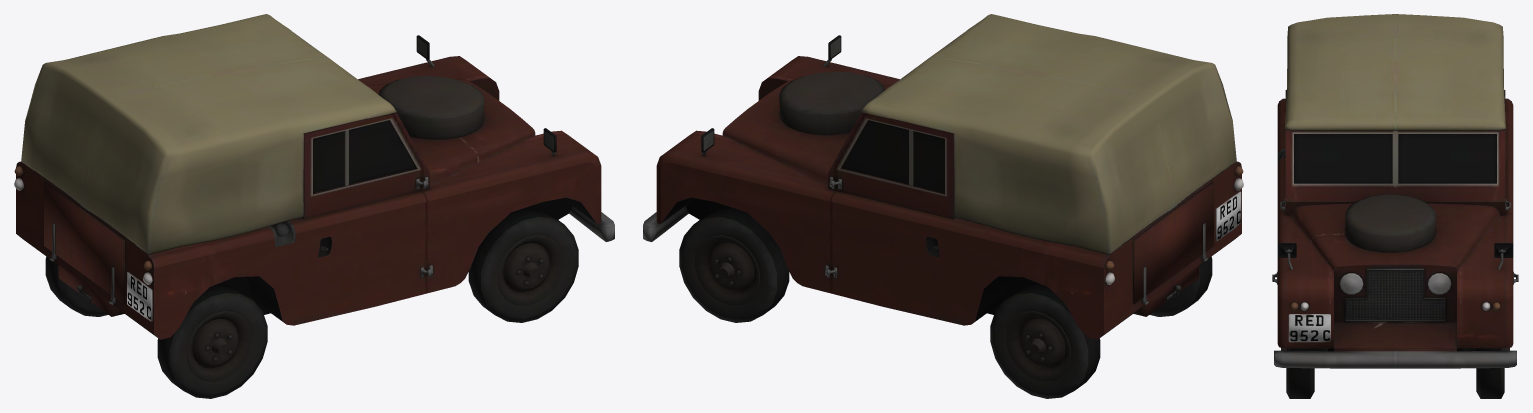
The picture shows the model from 3 angles, left to right: view 1: azimuth 30°, elevation 25°; view 2: azimuth 150°, elevation 25°; view 3: azimuth 270°, elevation 25°; orthographic projection. The views are drawn at different scales.
Visible parts, largest first — view 1: body0_model0_lod0_mesh0; view 2: body0_model0_lod0_mesh0; view 3: body0_model0_lod0_mesh0.
Boxes of the visible parts, x1,y1,x2,y2 form: body0_model0_lod0_mesh0: (14, 14, 614, 398); body0_model0_lod0_mesh0: (643, 14, 1243, 398); body0_model0_lod0_mesh0: (1272, 14, 1518, 398).
Size of the model in its own units: 205 by 111 by 108.
Materials: 1 (1 with a texture image).
